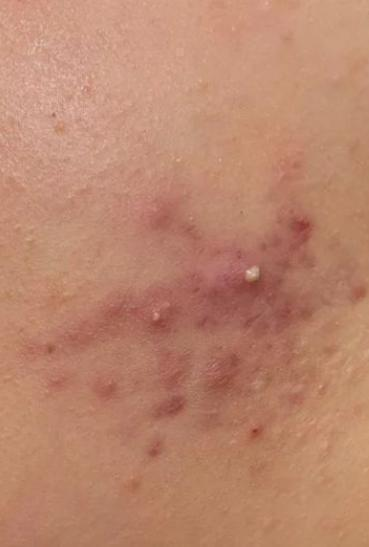blackhead: (223, 199, 262, 234), (49, 109, 76, 151), (312, 372, 342, 407)
papular: (192, 337, 251, 397)
purulent: (234, 255, 277, 301), (143, 307, 175, 337)
